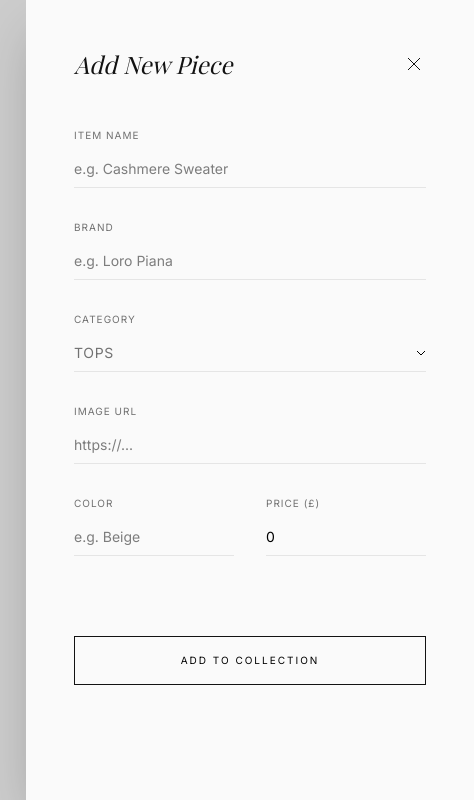
Test case: AddGarmentPanel.vue › toggles the custom category dropdown
The width and height of the screenshot is (474, 800).
Expected: the text "footwear" is not shown
Click the text "tops" at (94, 353), box [74,343,114,363]
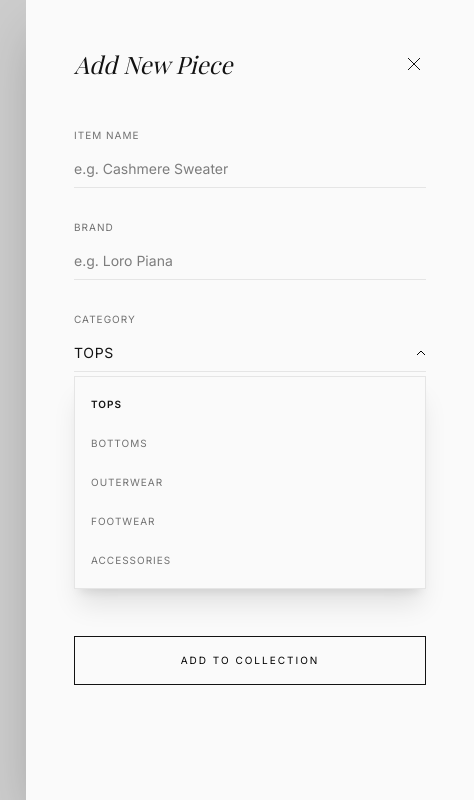
Expected: the text "footwear" is shown, [91,515,156,527]
Click the 1st text "tops" at (94, 353), box [74,343,114,363]
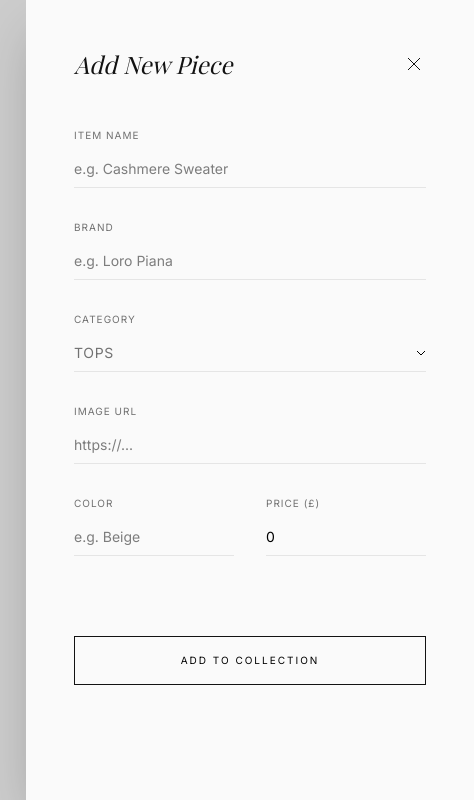
Expected: the text "footwear" is gone
